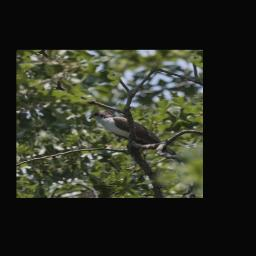Cuckoo: (85, 97, 190, 179)
